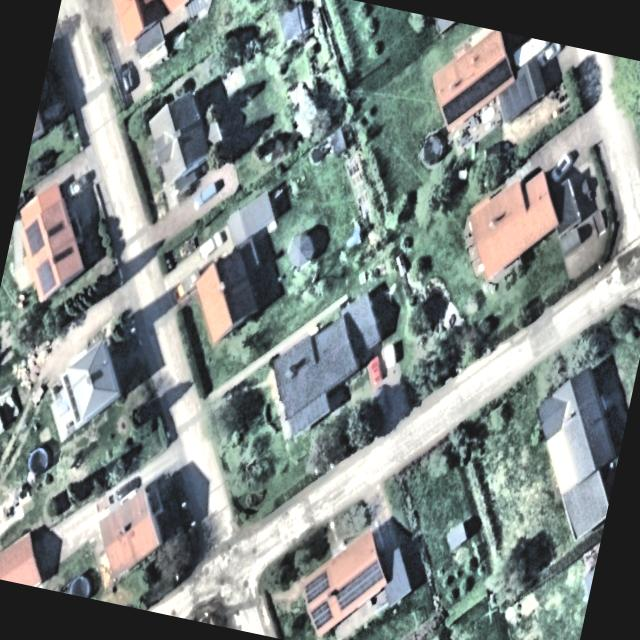roof_pv: (331, 554, 391, 620), (470, 50, 520, 112), (440, 80, 480, 129), (16, 214, 52, 264), (301, 560, 333, 606), (28, 254, 61, 298), (306, 592, 338, 636)
